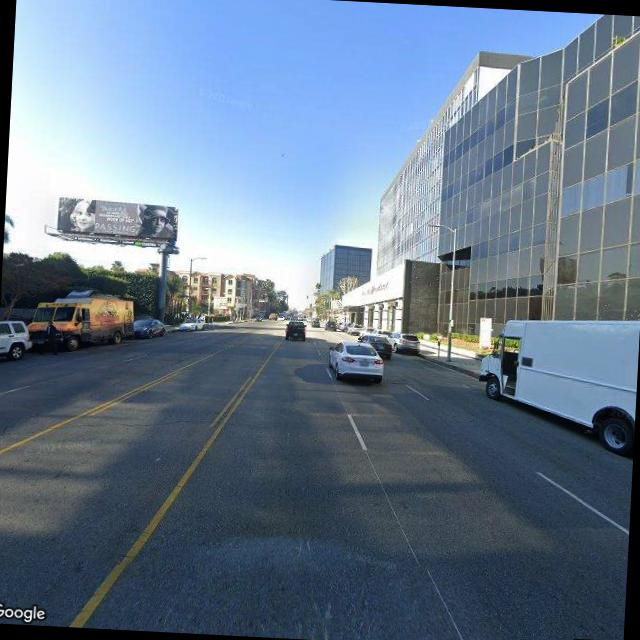crack: (76, 406, 207, 434)
